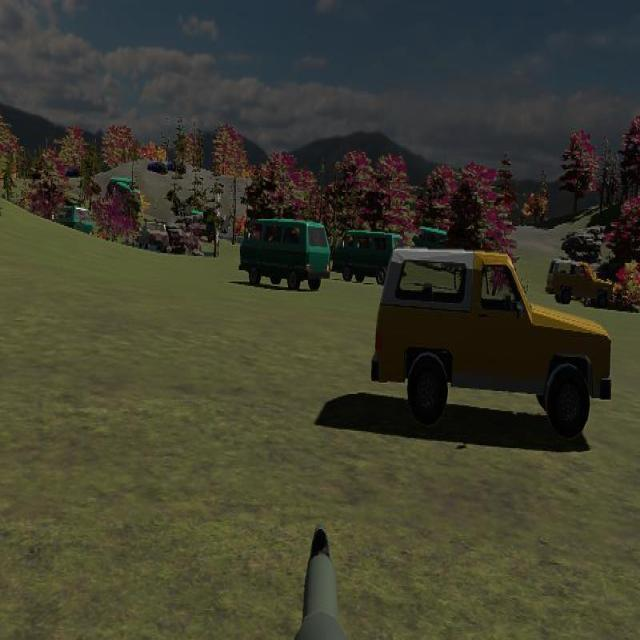car: (371, 249, 614, 438), (239, 217, 330, 291), (331, 229, 402, 285), (546, 258, 614, 310), (54, 204, 94, 236)
